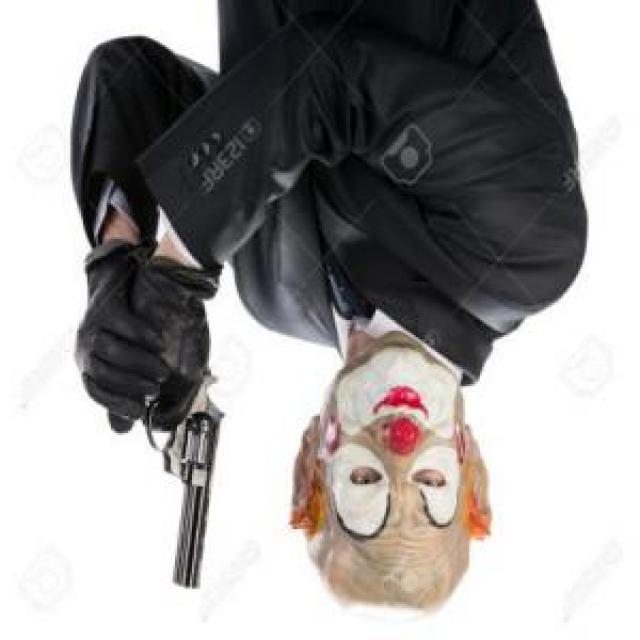pistol: (122, 342, 226, 596)
